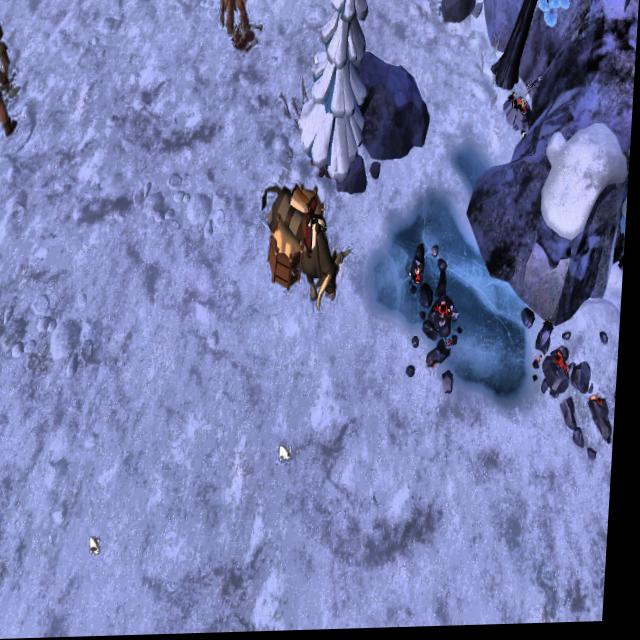enemy_factionKeeper: (0, 21, 22, 134), (216, 0, 259, 38)
